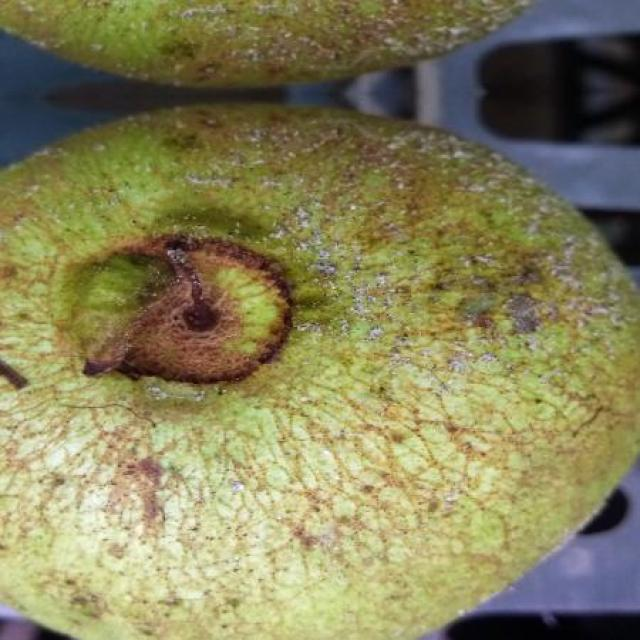Scab: (0, 105, 640, 640)
